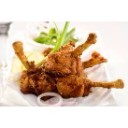chicken_lollipop: (11, 40, 55, 95), (45, 34, 99, 77), (56, 71, 125, 101)
